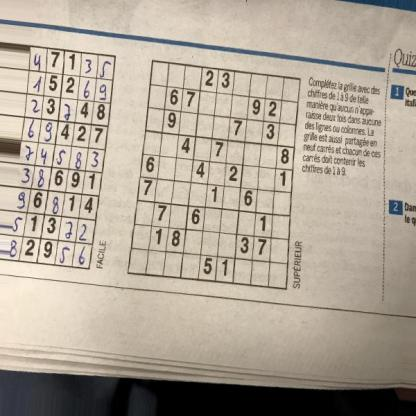sudoku: (125, 56, 303, 292)
